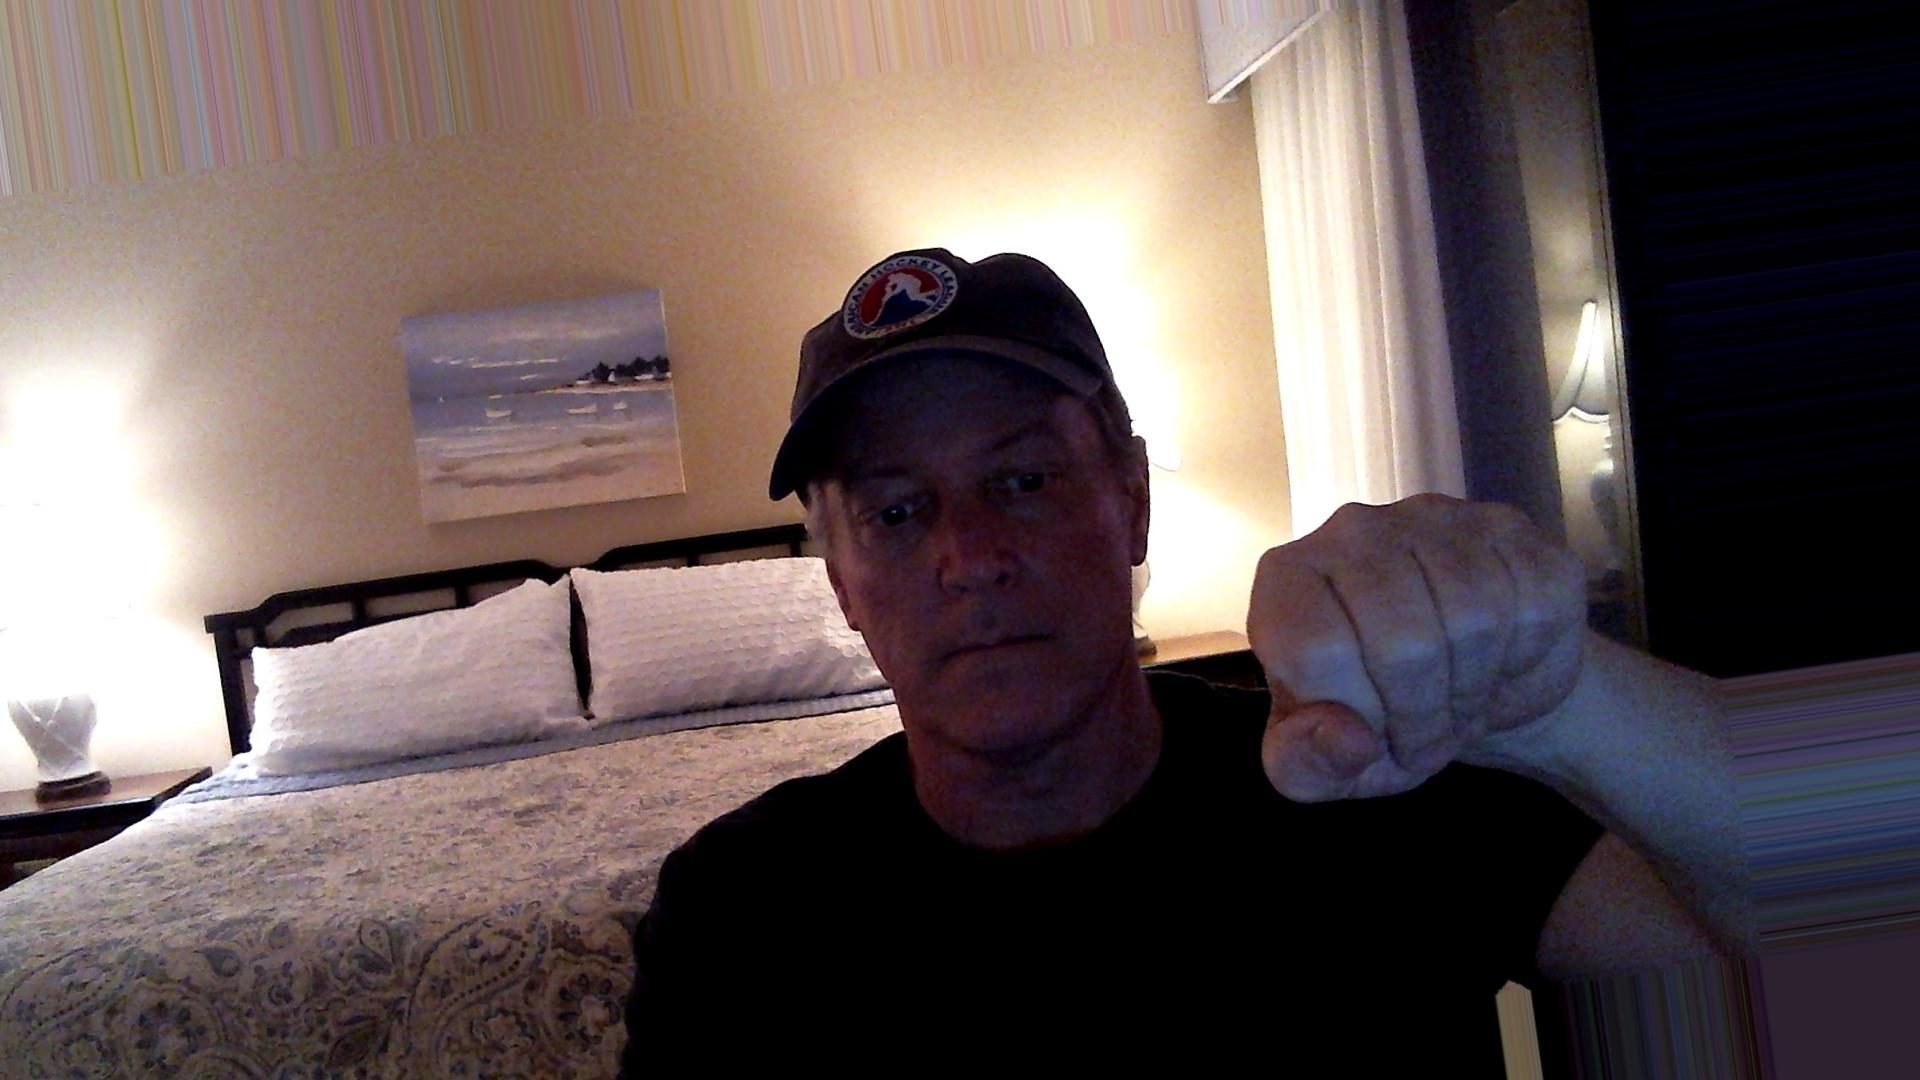Yes: (1218, 487, 1654, 825)
